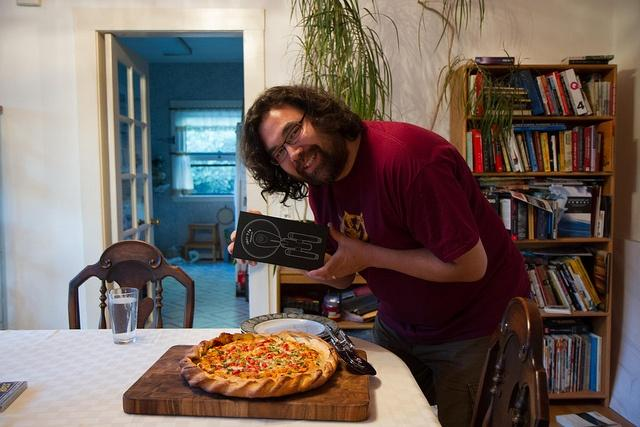Rak: (463, 64, 615, 398)
